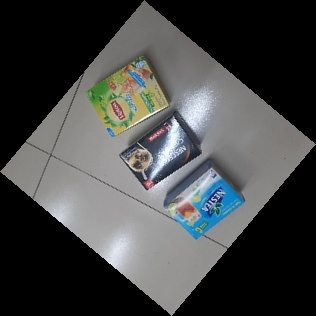CF Viet: (119, 112, 202, 191)
LipTon: (86, 55, 171, 137)
Nestea: (163, 159, 246, 240)
